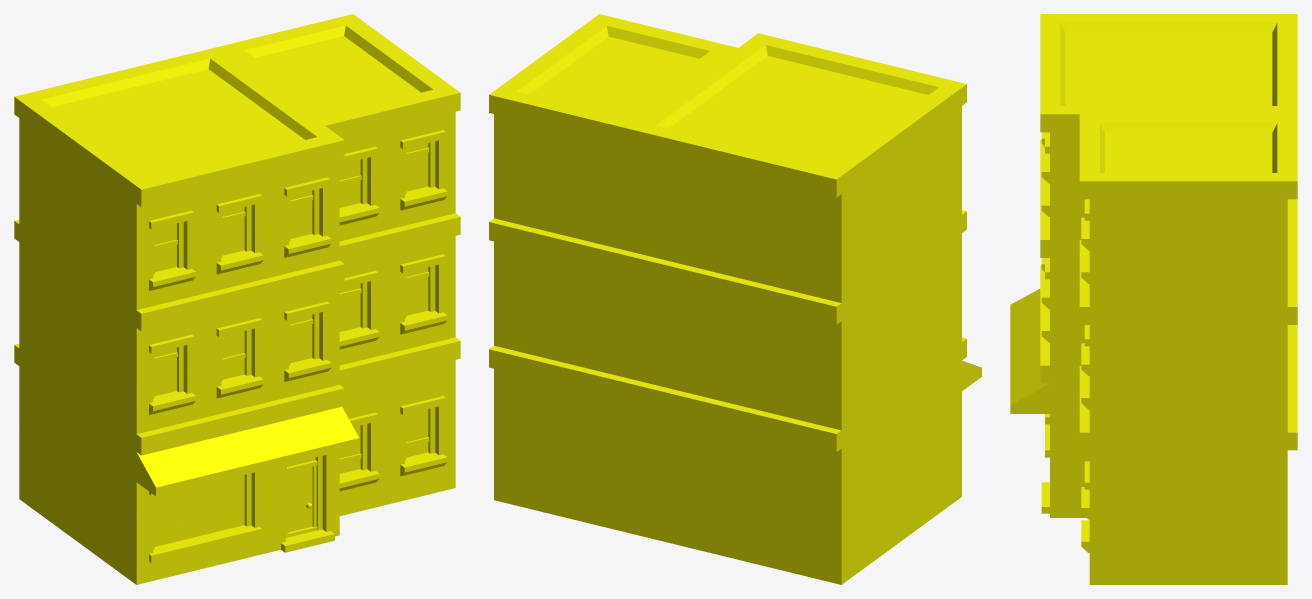
The model's file is kaykit-building-g-withoutbase.glb.
The picture shows the model from 3 angles, left to right: view 1: azimuth 30°, elevation 25°; view 2: azimuth 150°, elevation 25°; view 3: azimuth 270°, elevation 25°; orthographic projection. The views are drawn at different scales.
Visible parts, largest first — view 1: building_G_withoutBase; view 2: building_G_withoutBase; view 3: building_G_withoutBase.
Part boxes in pixels (x1,y1,x2,y2): building_G_withoutBase: [14, 14, 460, 584]; building_G_withoutBase: [489, 14, 981, 584]; building_G_withoutBase: [1010, 14, 1297, 584].
Bounding box in the file's own units: 2.01 × 2.25 × 1.45.
